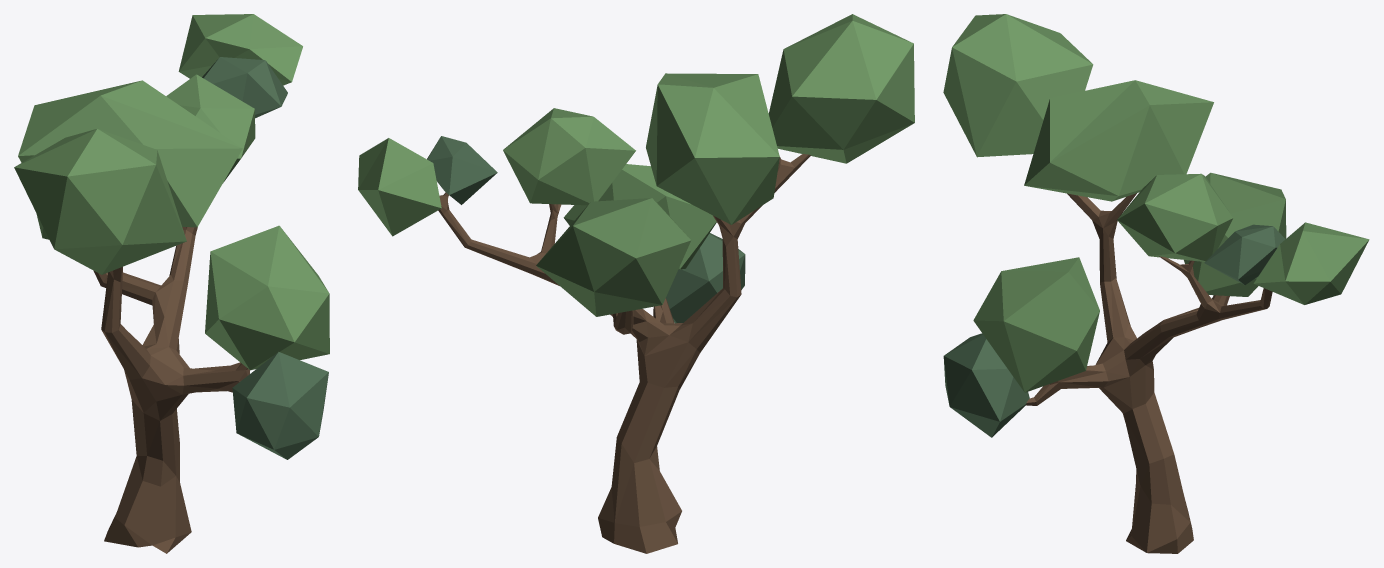
The model's file is tree1.glb.
3 views of the same model, side by side, from view 1: azimuth 30°, elevation 25°; view 2: azimuth 150°, elevation 25°; view 3: azimuth 270°, elevation 25° (orthographic). The views are drawn at different scales.
Visible parts, largest first — view 1: Plane, Icosphere.005, Icosphere.006, Icosphere.003, Icosphere.007, Icosphere.002, Icosphere, Icosphere.001; view 2: Plane, Icosphere.005, Icosphere.003, Icosphere.004, Icosphere, Icosphere.002, Icosphere.006, Icosphere.007, Icosphere.001; view 3: Plane, Icosphere.003, Icosphere.005, Icosphere.006, Icosphere, Icosphere.002, Icosphere.007, Icosphere.004, Icosphere.001.
Boxes of the visible parts, x1,y1,x2,y2 form: Plane: (93, 227, 249, 553); Icosphere.005: (14, 128, 186, 274); Icosphere.006: (205, 225, 329, 370); Icosphere.003: (18, 80, 242, 227); Icosphere.007: (232, 352, 328, 459); Icosphere.002: (178, 14, 302, 85); Icosphere: (166, 74, 255, 182); Icosphere.001: (202, 57, 287, 118); Plane: (438, 154, 810, 553); Icosphere.005: (768, 14, 914, 163); Icosphere.003: (646, 73, 779, 224); Icosphere.004: (536, 198, 690, 316); Icosphere: (503, 108, 635, 205); Icosphere.002: (358, 138, 441, 236); Icosphere.006: (563, 164, 716, 269); Icosphere.007: (666, 233, 745, 323); Icosphere.001: (427, 136, 497, 204); Plane: (1025, 193, 1272, 553); Icosphere.003: (1024, 80, 1213, 201); Icosphere.005: (943, 14, 1093, 157); Icosphere.006: (973, 257, 1099, 392); Icosphere: (1117, 173, 1233, 261); Icosphere.002: (1253, 222, 1369, 304); Icosphere.007: (943, 333, 1029, 437); Icosphere.004: (1184, 172, 1286, 296); Icosphere.001: (1204, 224, 1285, 284).
Bounding box in the file's own units: 6.23 × 7.32 × 6.06.
